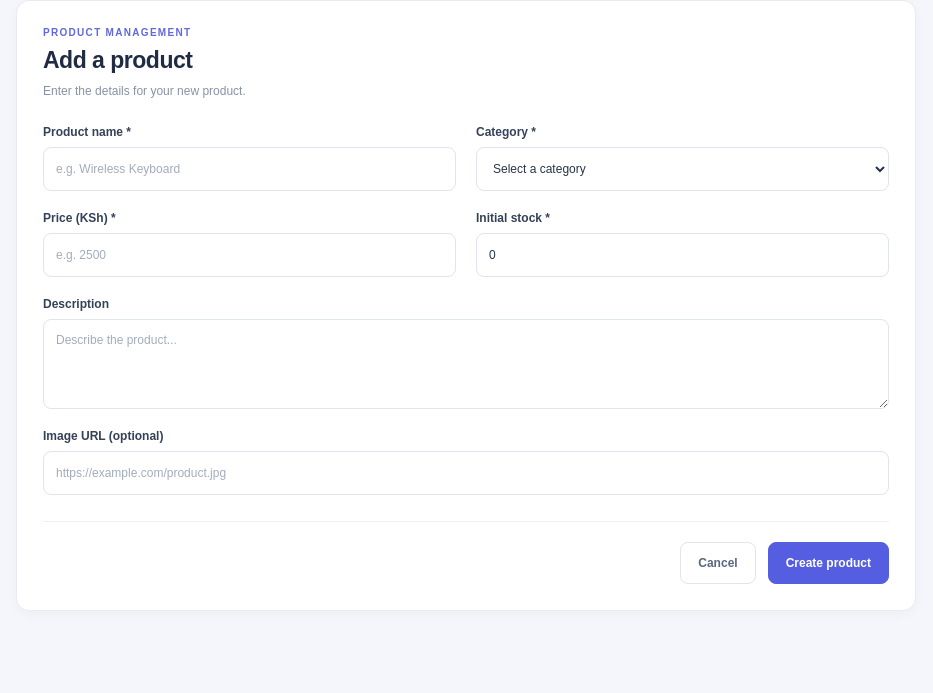
Test case: ProductForm component › displays an API error when product creation fails
Select "Electronics" in the dropdown labelled "Category *": (682, 169) [476, 147, 889, 191]
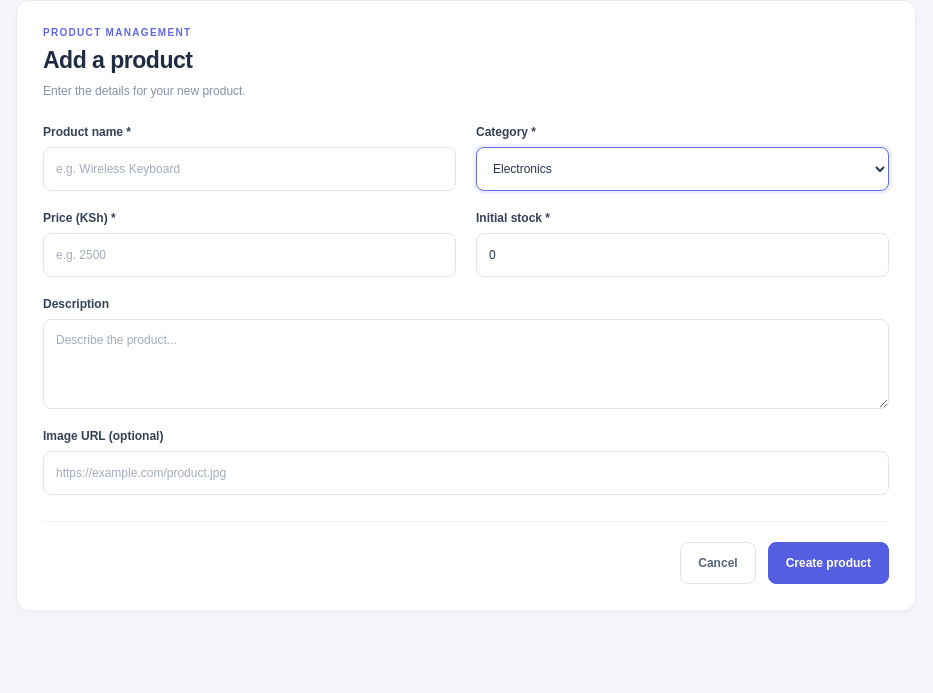
In the field labelled "Product name *": (250, 169) [43, 147, 456, 191], type "Keyboard"
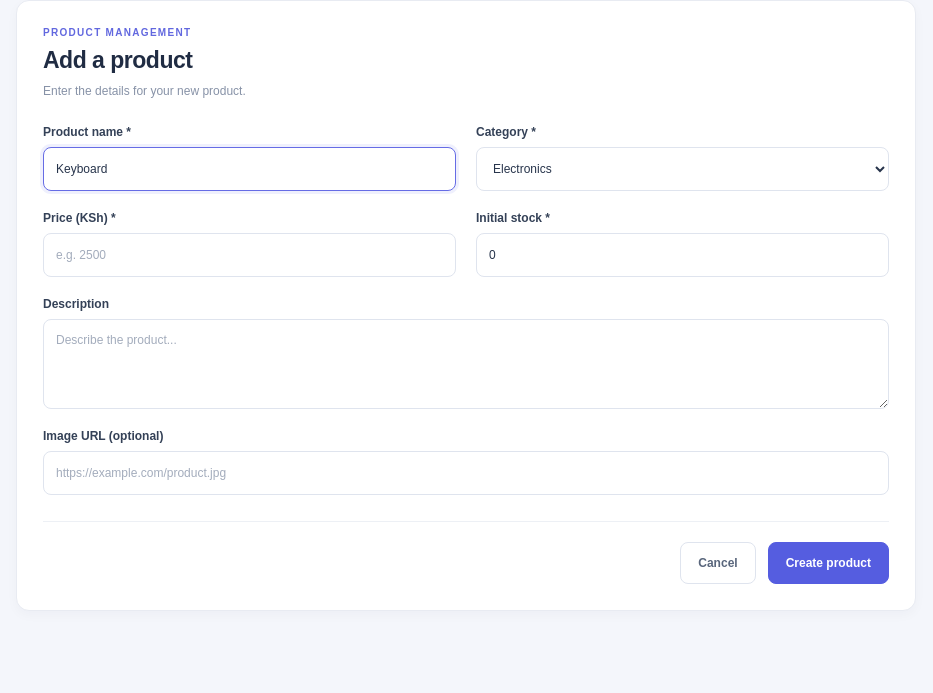
In the number field labelled "Price (KSh) *": (250, 255) [43, 233, 456, 277], type "2500"
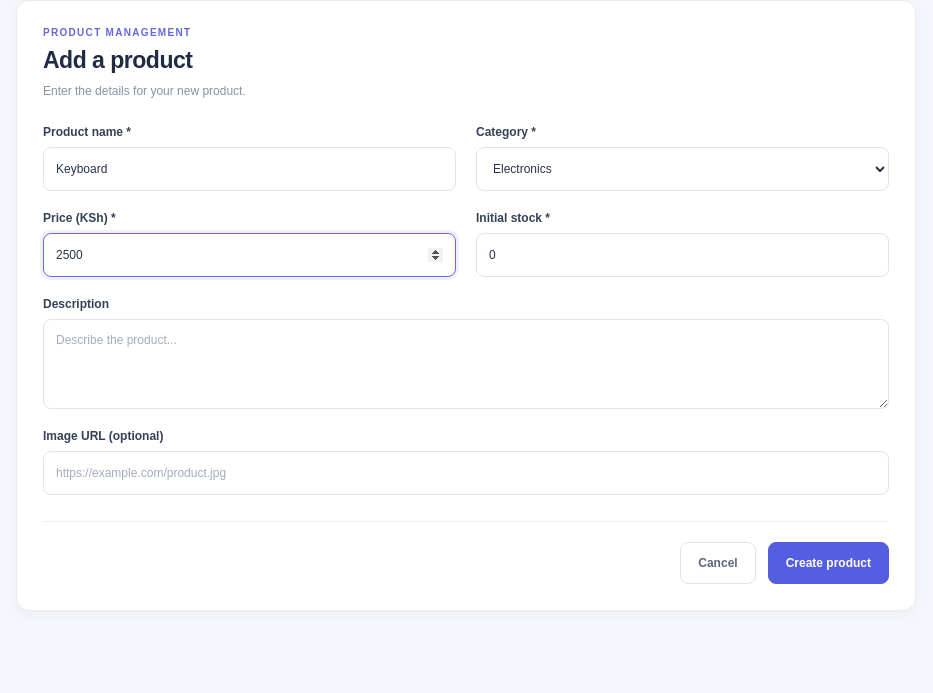
Click the button "Create product": click(828, 563) [768, 542, 889, 584]
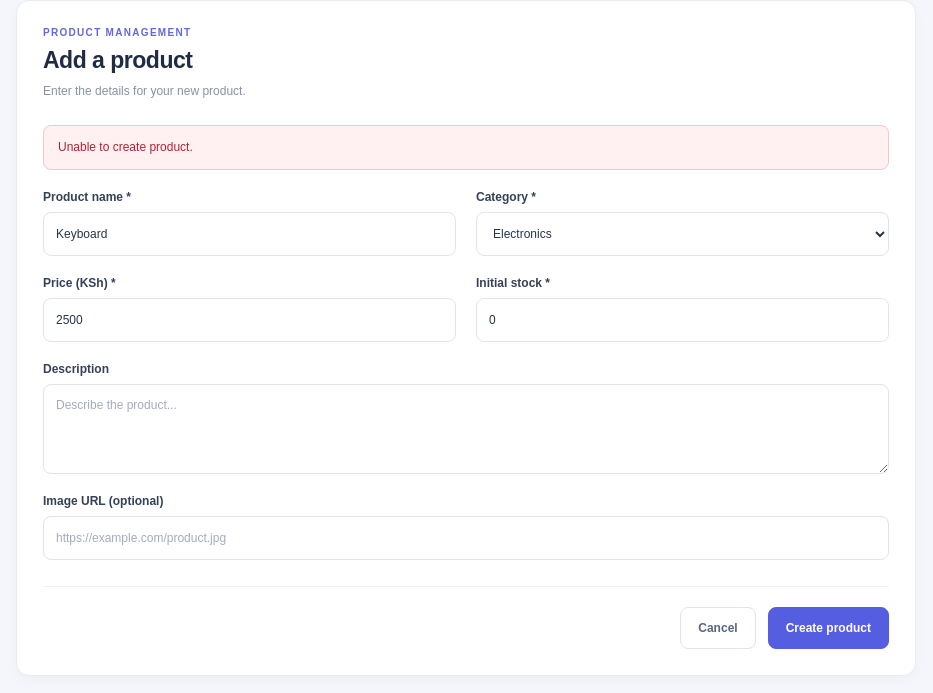
Expected: the message reads "Unable to create product.", [58, 140, 193, 154]
